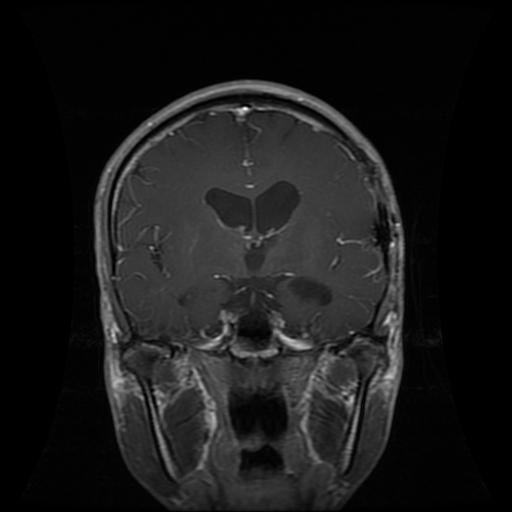Gliomia_tumour: (290, 276, 336, 305)
